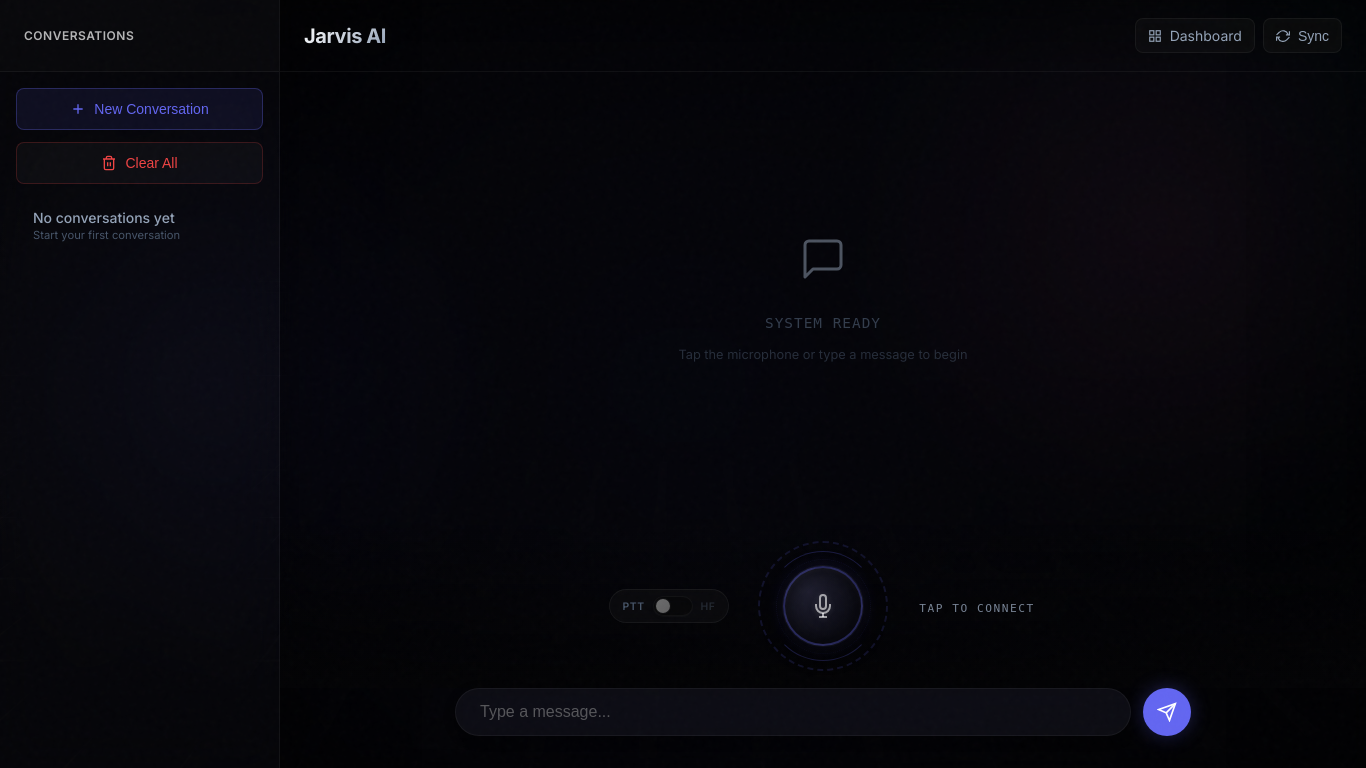
Test case: Jarvis React App › sends text message on button click
# Type a message
Step 1. Type "Hello" into the field with placeholder "Type a message..." → (793, 712), box [455,688,1131,736]
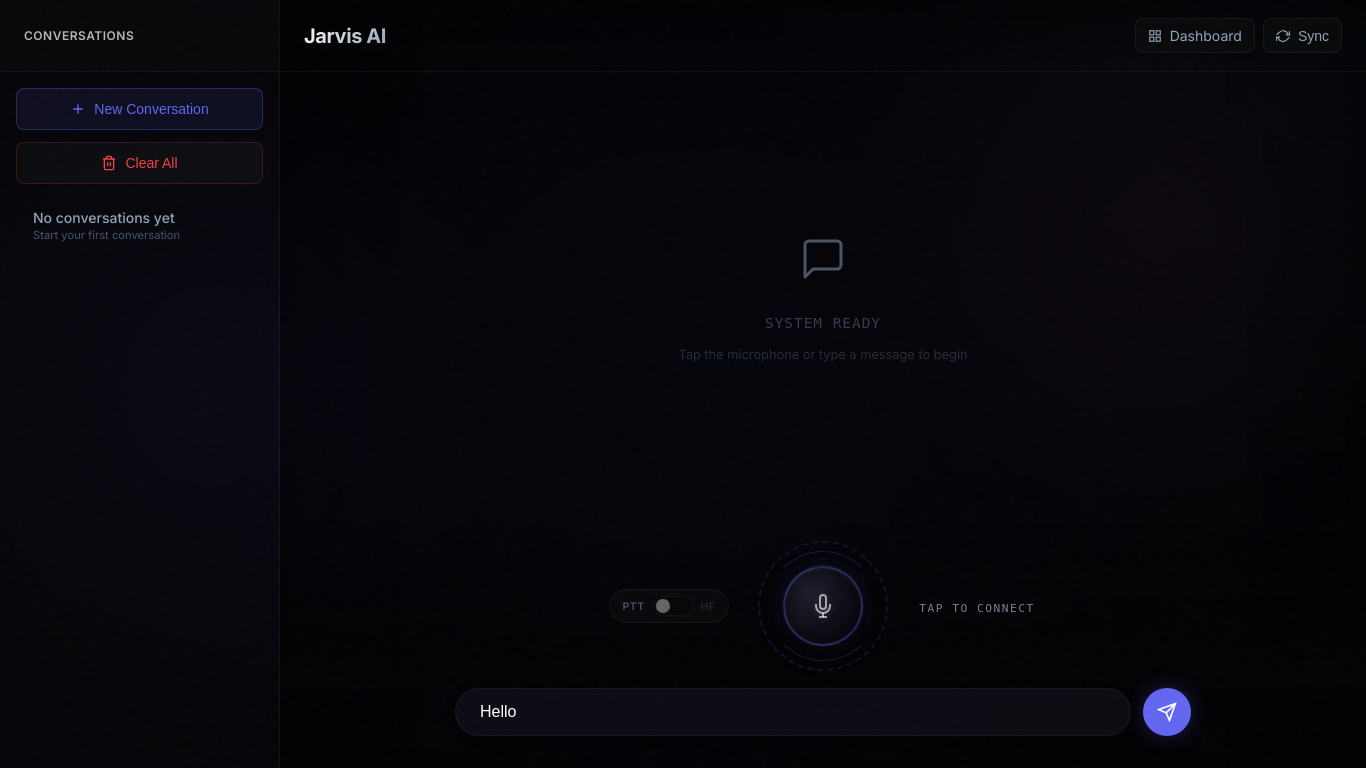
# Send the message
Step 2. Click the button named "Send message" → (1167, 712), box [1143,688,1191,736]
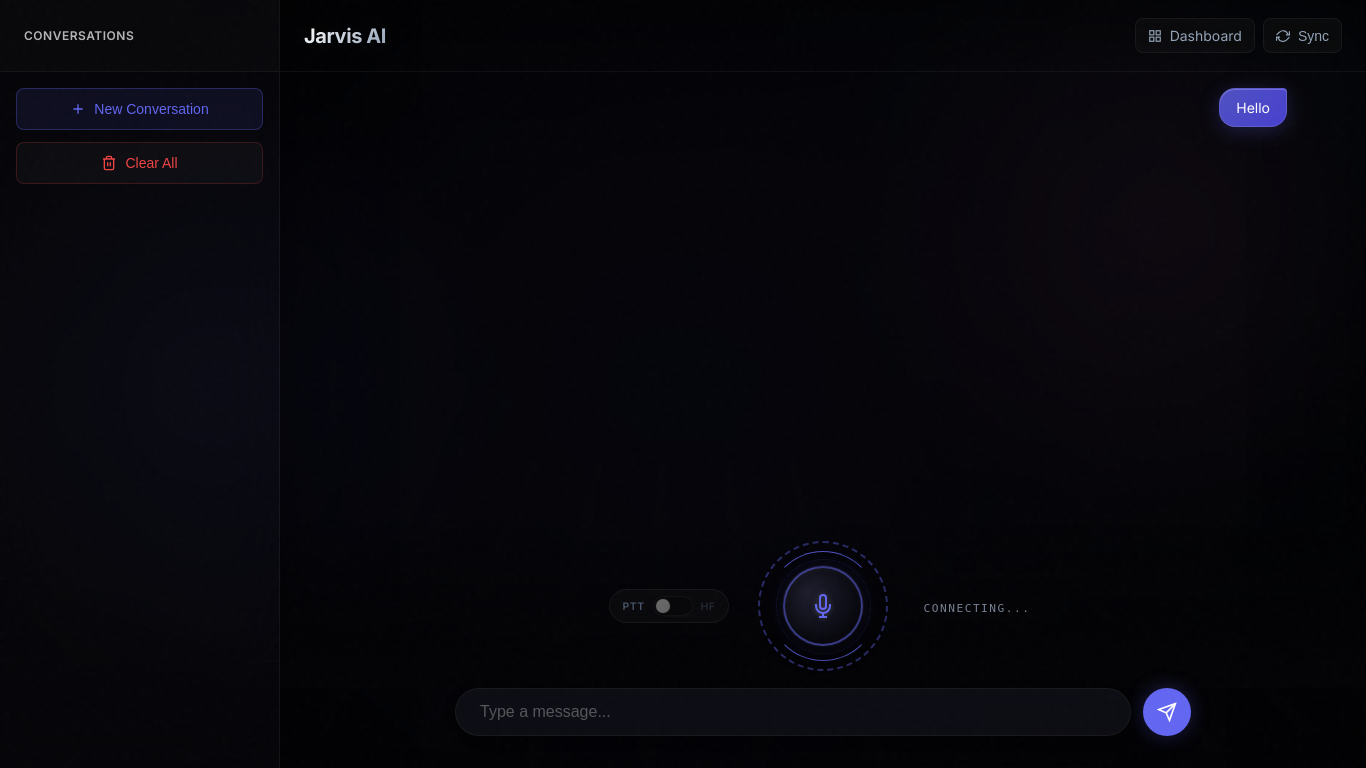
expect the text "Hello" is shown: met, box [1236,97,1270,118]
expect the field with placeholder "Type a message..." is empty: met, box [455,688,1131,736]
